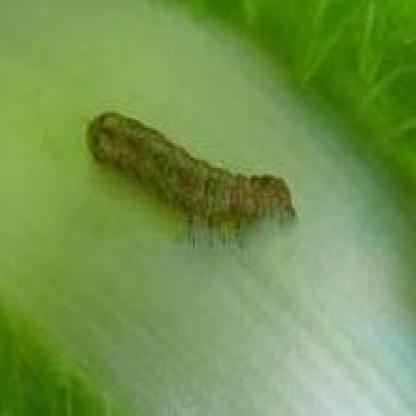armyworm: (84, 104, 310, 242)
